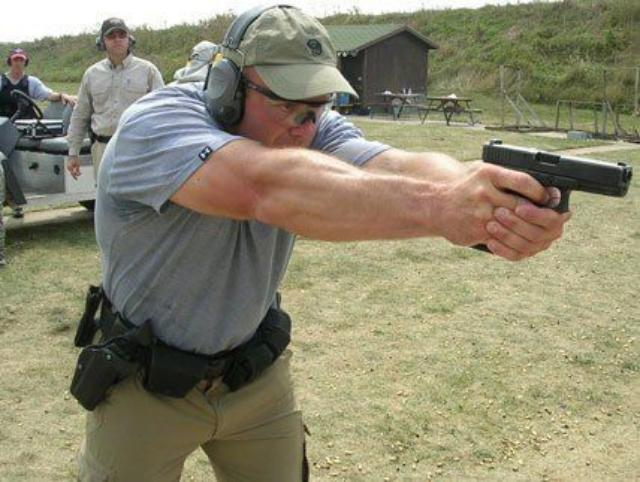handgun: (466, 136, 640, 258)
